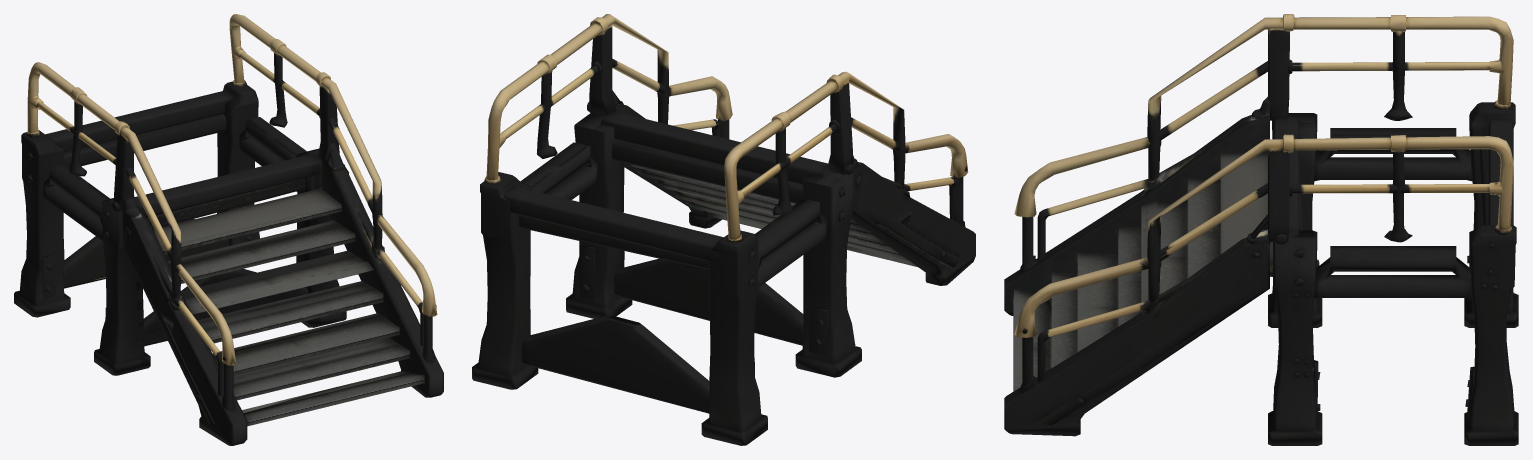
The model's file is selected.glb.
3 views of the same model, side by side, from view 1: azimuth 30°, elevation 25°; view 2: azimuth 150°, elevation 25°; view 3: azimuth 270°, elevation 25° (orthographic). The views are drawn at different scales.
Parts seen in each view (by area): view 1: tripo_node_f733bea9-0aa9-4aff-a394-a4fe51b8dd66; view 2: tripo_node_f733bea9-0aa9-4aff-a394-a4fe51b8dd66; view 3: tripo_node_f733bea9-0aa9-4aff-a394-a4fe51b8dd66.
Part boxes in pixels (bbox=[...]): tripo_node_f733bea9-0aa9-4aff-a394-a4fe51b8dd66: bbox=[14, 14, 443, 445]; tripo_node_f733bea9-0aa9-4aff-a394-a4fe51b8dd66: bbox=[472, 14, 975, 445]; tripo_node_f733bea9-0aa9-4aff-a394-a4fe51b8dd66: bbox=[1004, 14, 1518, 445].
Size of the model in its own units: 0.6465 by 0.6426 by 0.998.
Materials: 1 (1 with a texture image).
